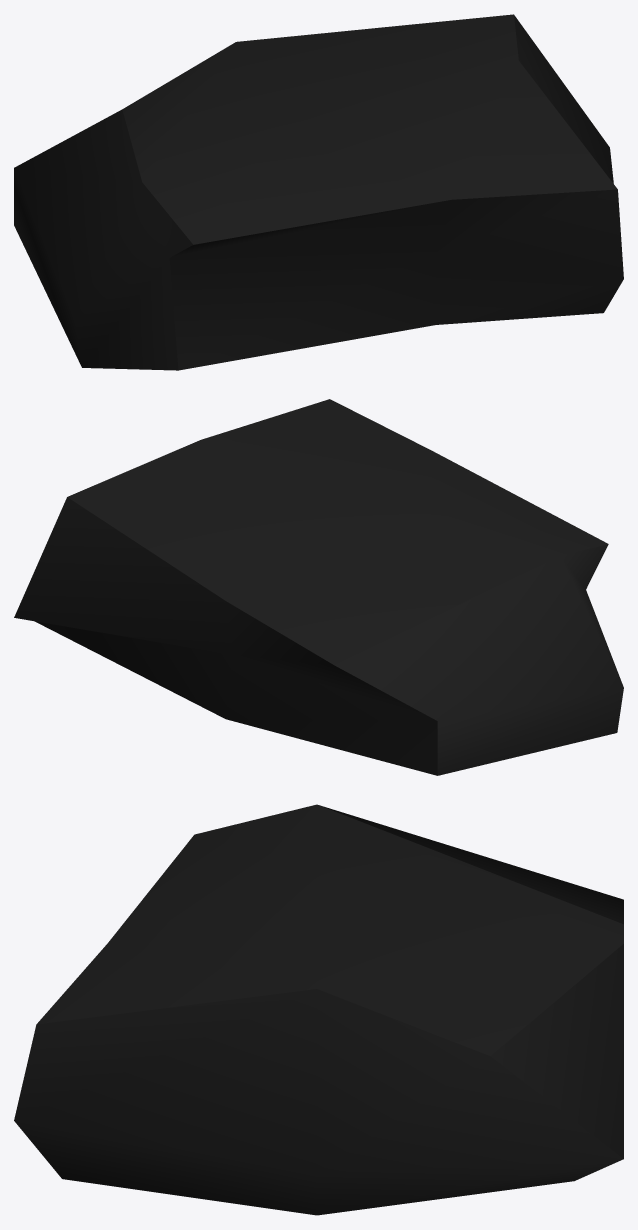
The model's file is Rubble 2.fbx.
3 views of the same model, one above another, from view 1: azimuth 30°, elevation 25°; view 2: azimuth 150°, elevation 25°; view 3: azimuth 270°, elevation 25° (orthographic). The views are drawn at different scales.
Visible parts, largest first — view 1: Rubble 2; view 2: Rubble 2; view 3: Rubble 2.
Boxes of the visible parts, x1=… form: Rubble 2: x1=14, y1=14, x2=623, y2=370; Rubble 2: x1=14, y1=399, x2=623, y2=775; Rubble 2: x1=14, y1=804, x2=623, y2=1215.
Size of the model in its own units: 12.04 by 4.32 by 9.94.
1 material, 1 textured.
